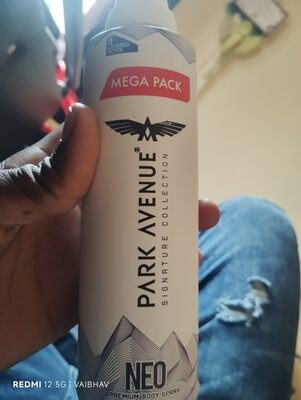Park Avenue Signature Collection Neo: (15, 20, 286, 380)
